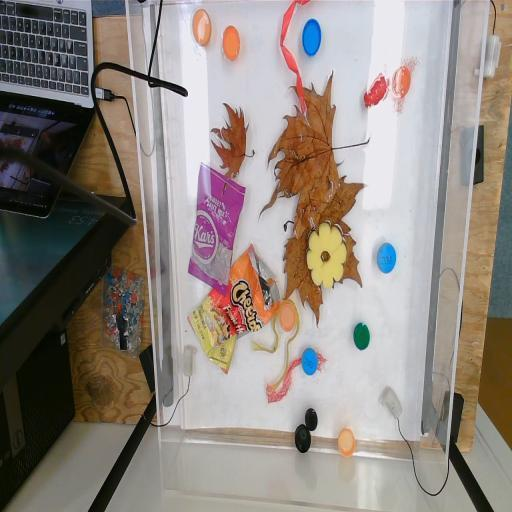Bottle Cap: (302, 16, 322, 58), (192, 9, 212, 47), (222, 24, 240, 62), (376, 242, 396, 275), (392, 65, 411, 99), (337, 427, 356, 459), (352, 322, 370, 352), (294, 423, 311, 454), (279, 304, 296, 332), (302, 348, 318, 376), (305, 408, 318, 432)
Cone Cap: (363, 71, 388, 108)
Leaf: (258, 68, 370, 232), (282, 174, 368, 330), (209, 98, 256, 184)
Netting: (266, 351, 330, 404), (383, 44, 421, 116)
Plastic Bag: (187, 241, 281, 375), (187, 162, 246, 298)
Plastic Strand: (252, 298, 300, 390), (279, 0, 310, 115)
Sponge: (306, 220, 348, 290)
